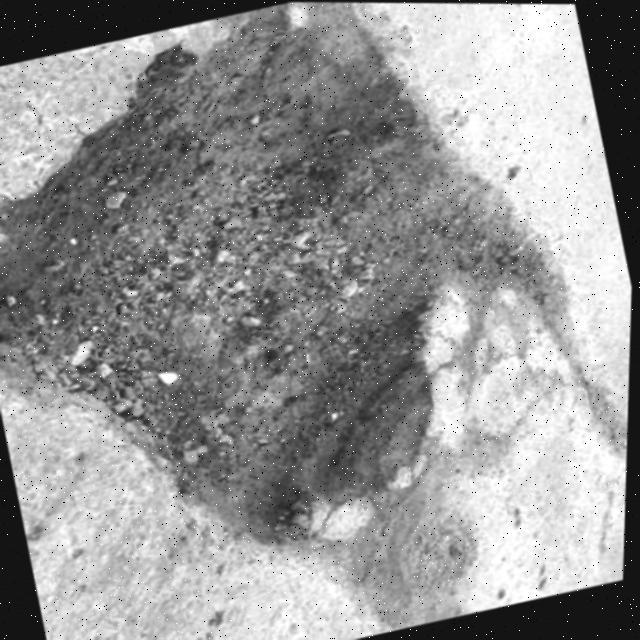pothole: (0, 0, 609, 605)
